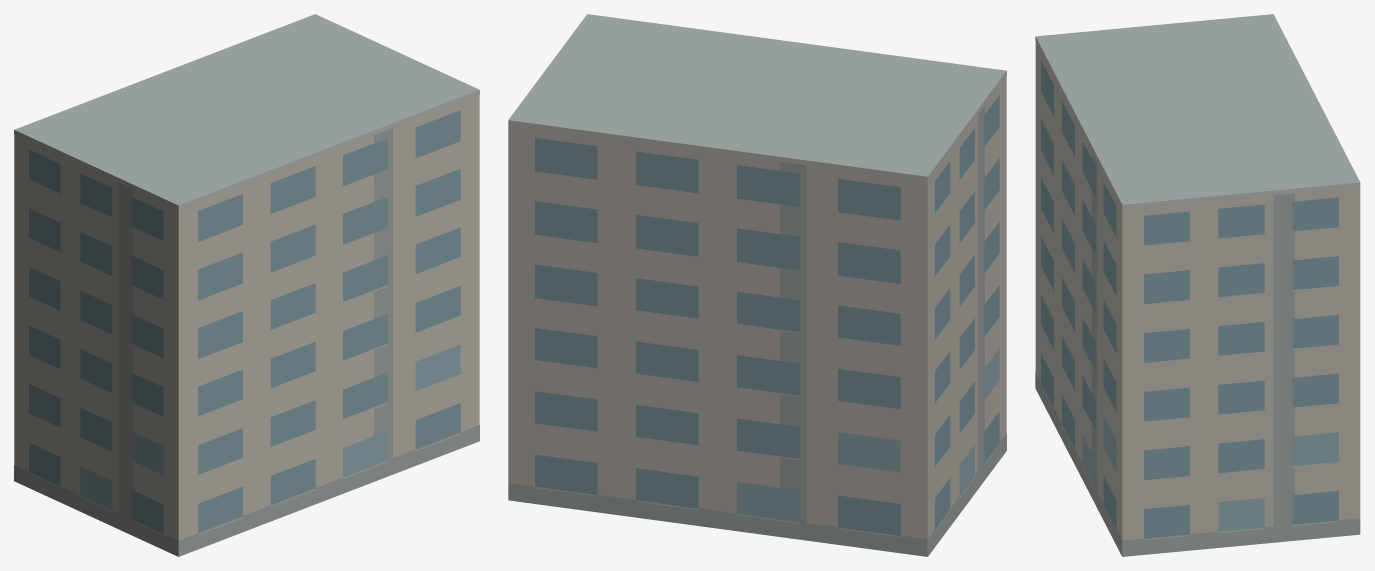
Rendered from survey-upis-32818266.glb.
3 views of the same model, side by side, from view 1: azimuth 30°, elevation 25°; view 2: azimuth 150°, elevation 25°; view 3: azimuth 270°, elevation 25° (orthographic). The views are drawn at different scales.
Parts seen in each view (by area): view 1: survey-upis-32818266.tmp; view 2: survey-upis-32818266.tmp; view 3: survey-upis-32818266.tmp.
Part boxes in pixels (left/top/right/bottom): survey-upis-32818266.tmp: left=14, top=14, right=479, bottom=556; survey-upis-32818266.tmp: left=508, top=14, right=1006, bottom=556; survey-upis-32818266.tmp: left=1035, top=14, right=1360, bottom=556.
Size of the model in its own units: 21.04 by 18.1 by 15.14.
